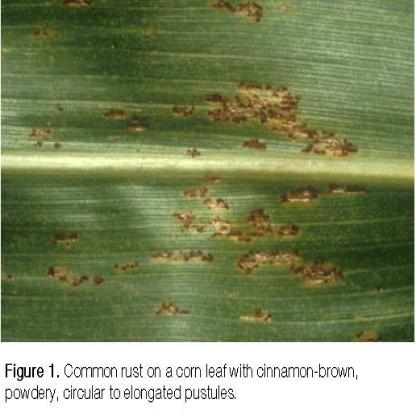Corn rust leaf: (2, 1, 414, 342)
